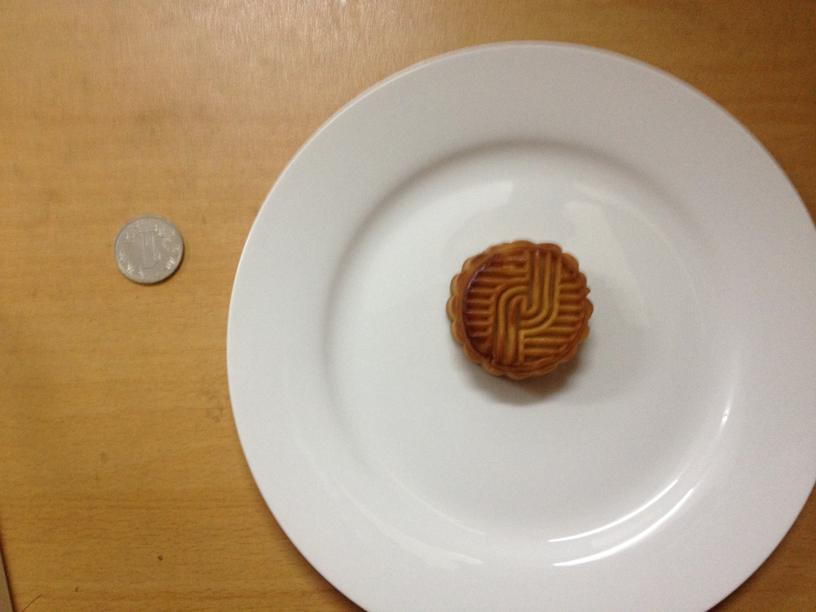coin: (111, 219, 185, 284)
mooncake: (448, 238, 592, 378)
